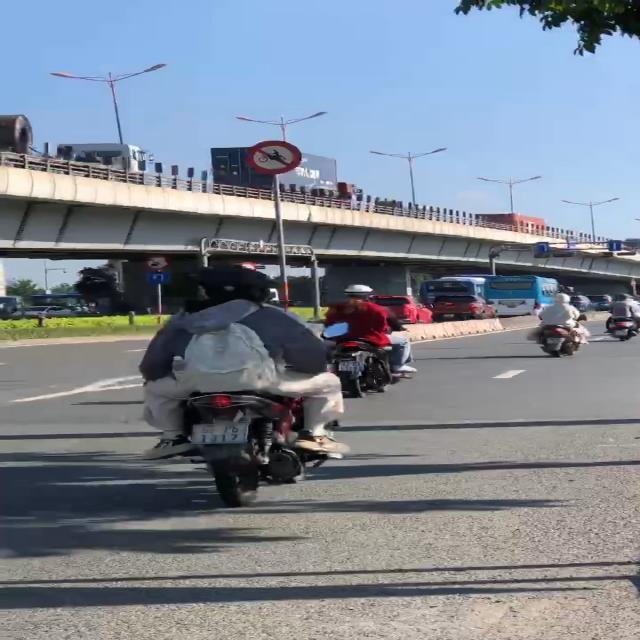Bien bao cam xe may: (245, 137, 308, 176)
